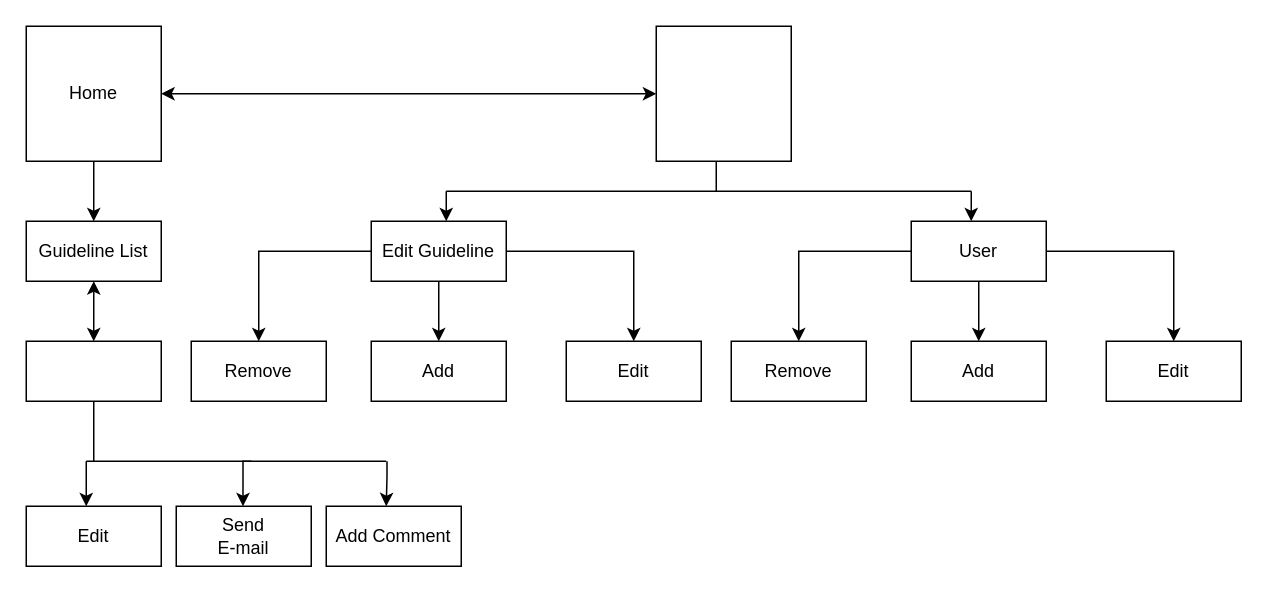
Image size: 1268x593. Some labels were removed from this diagram. The shapes that lost their labels are listed below. From the top down, each one's centre as x and y in pixels, then its label:
[723,93]: Admin Panel
[93,370]: Guideline
